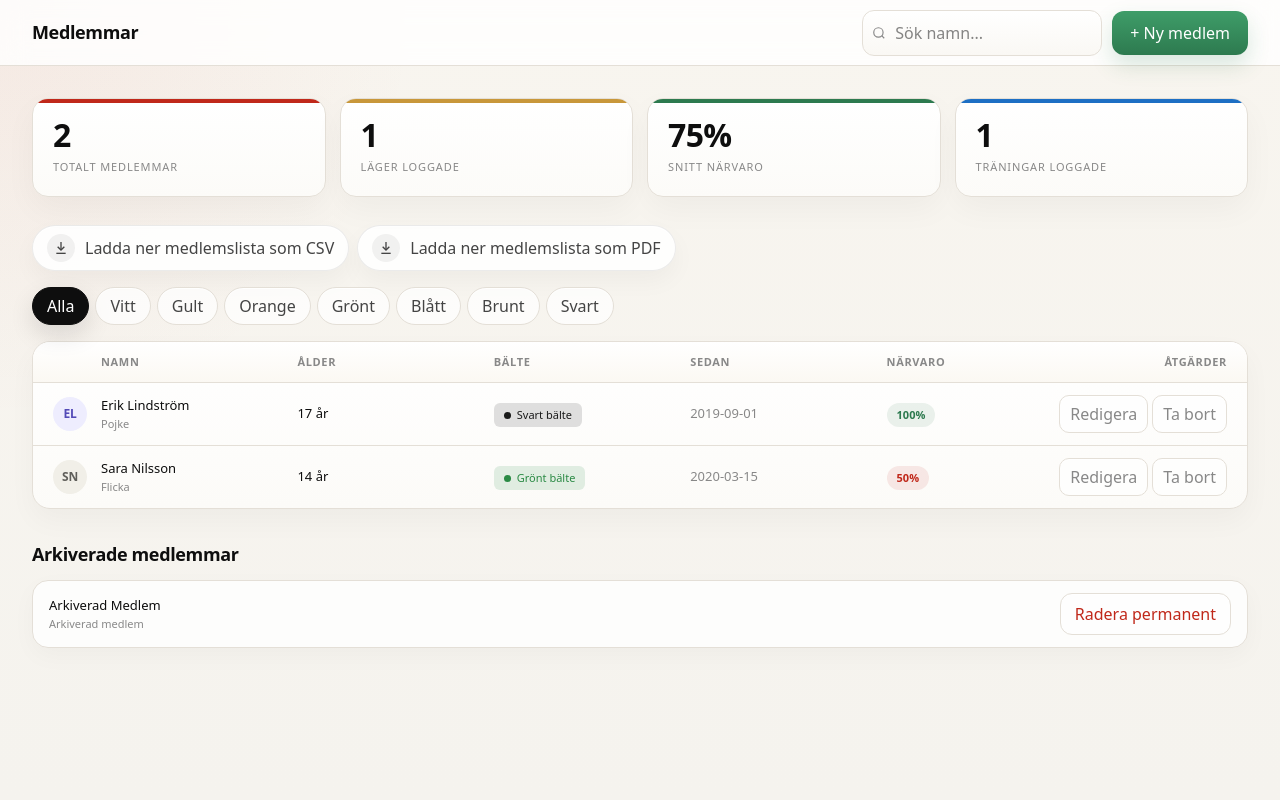
Test case: MembersView › filters members by search query
In the field with placeholder "Sök namn...": (982, 32) [862,10,1102,56], type "Sara"
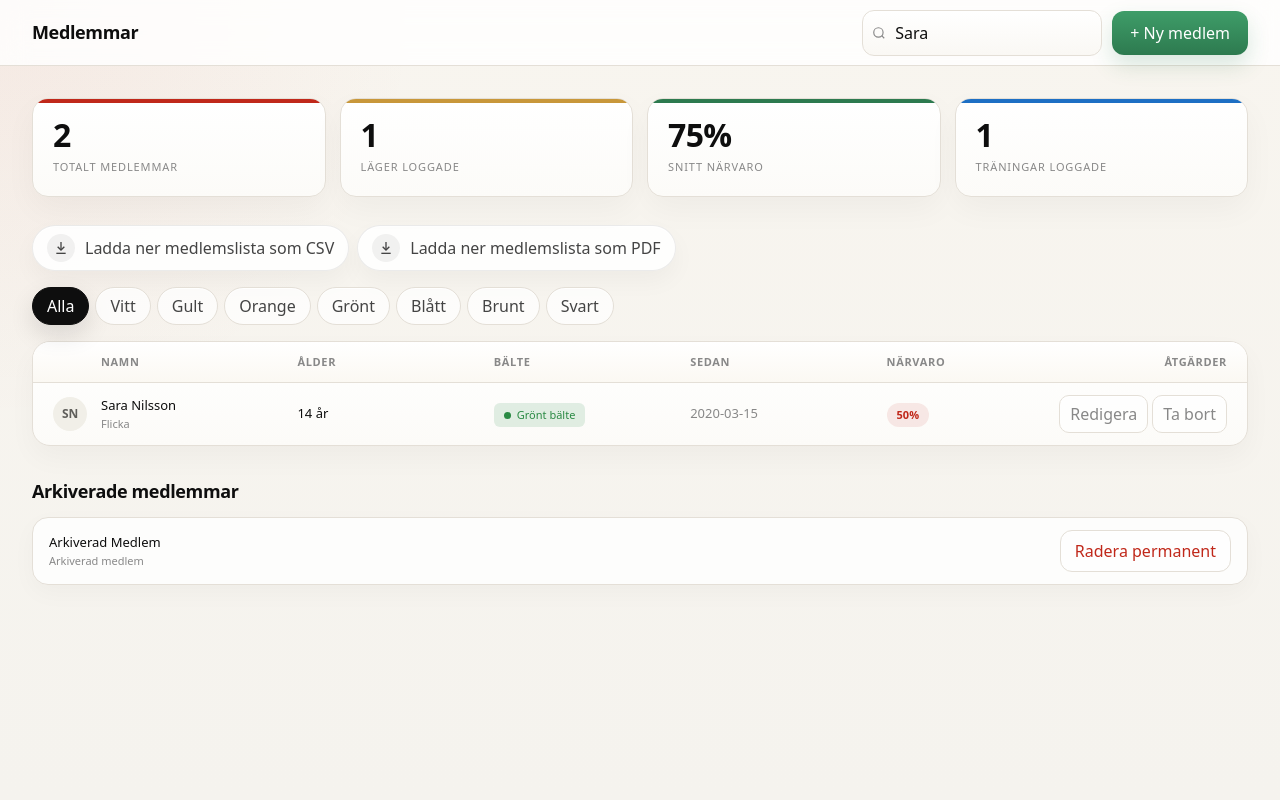
Expected: the text "Sara Nilsson" is shown, [101,396,176,414]
Expected: the text "Erik Lindström" is not shown
